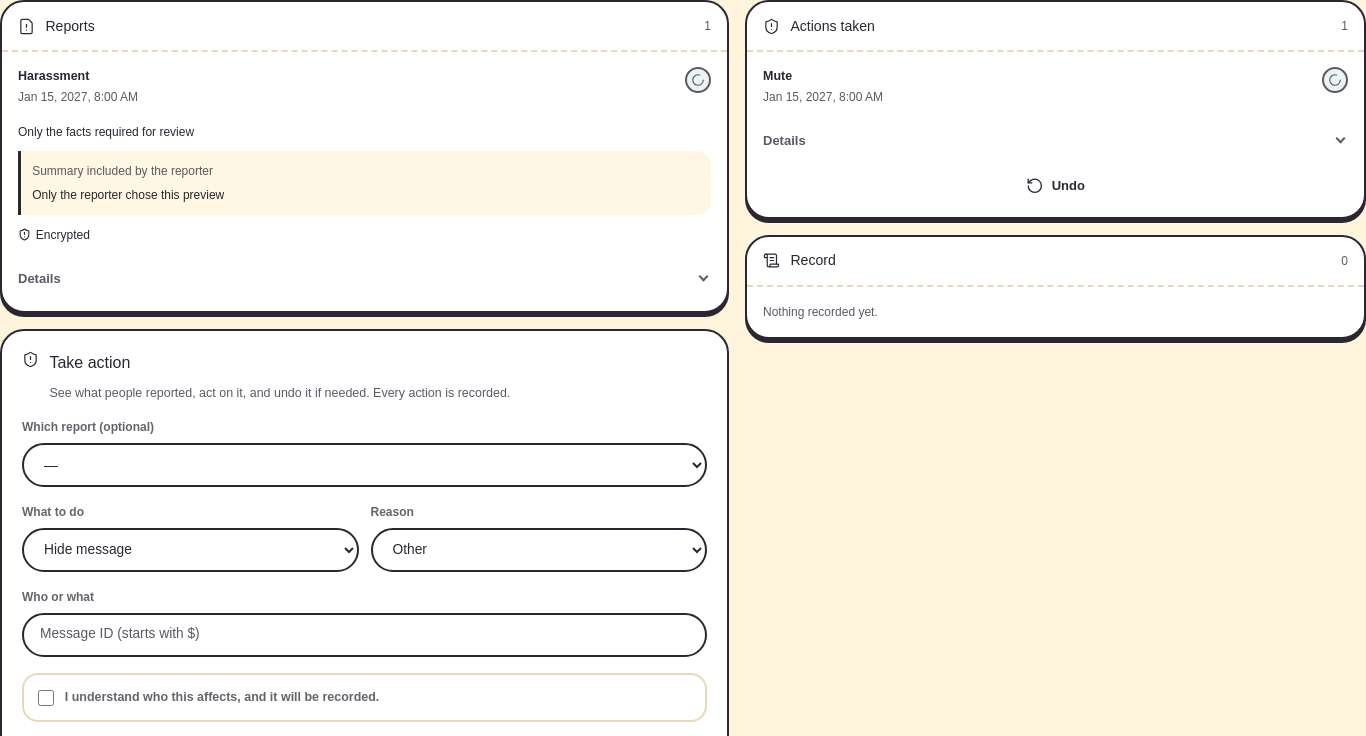
ModerationSettings › 撤回禁言回冲突时说清楚过一会儿再点，不说读不到治理信息
Click the button "Undo".
click(1056, 186)  # box left=763, top=169, right=1348, bottom=202
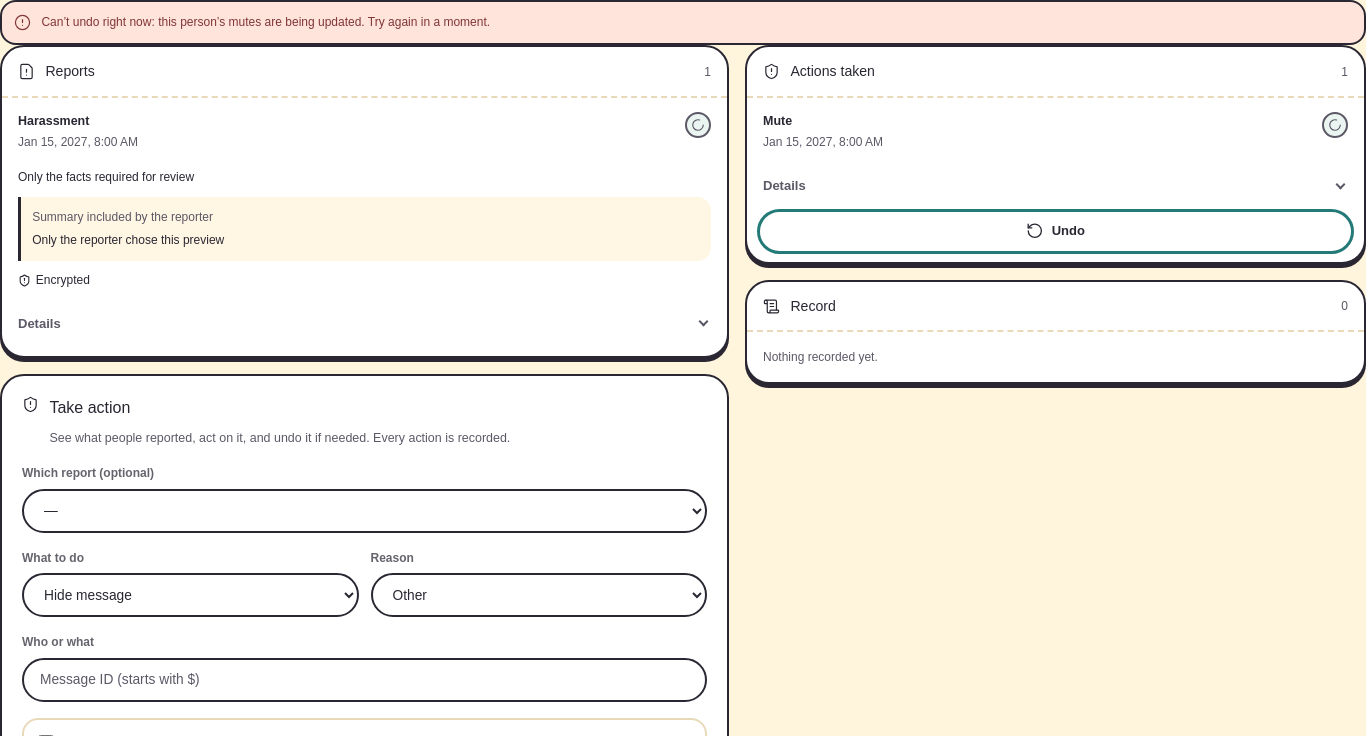
Expected: the text "Can’t undo right now" is shown, left=41, top=15, right=490, bottom=29
